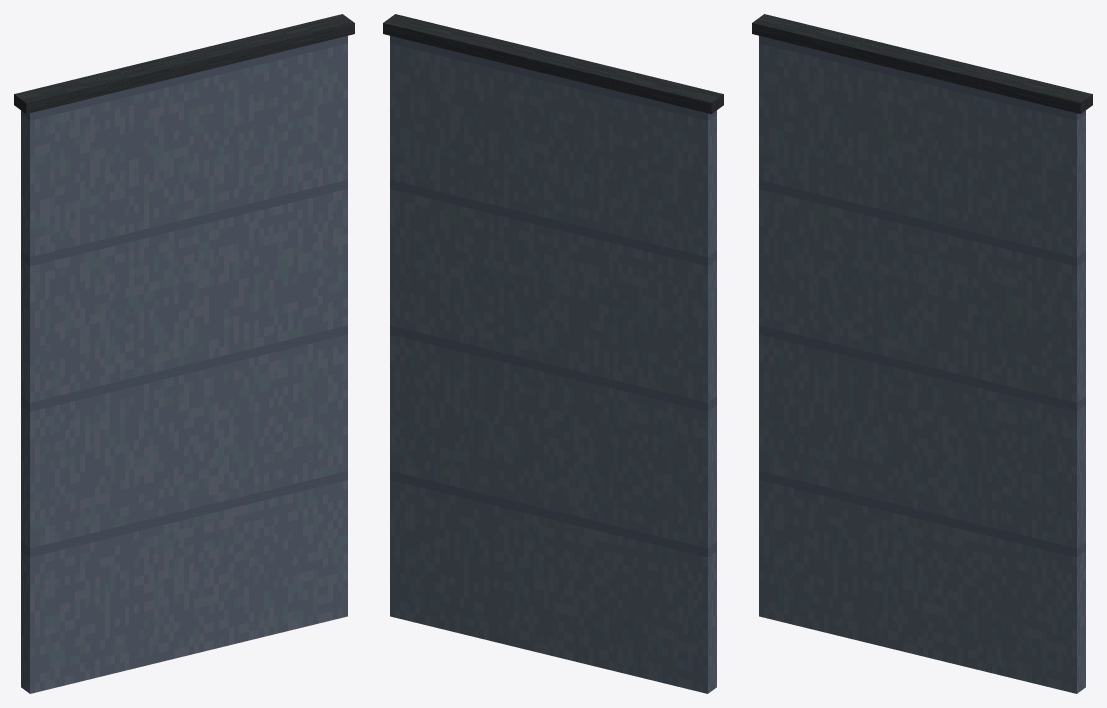
File: Display_WallPanel_011_Normal.fbx
3 views of the same model, side by side, from view 1: azimuth 30°, elevation 25°; view 2: azimuth 150°, elevation 25°; view 3: azimuth 330°, elevation 25° (orthographic).
Visible parts, largest first — view 1: Display_WallPanel_011.001; view 2: Display_WallPanel_011.001; view 3: Display_WallPanel_011.001.
Part boxes in pixels (x1,y1,x2,y2): Display_WallPanel_011.001: [14, 14, 354, 693]; Display_WallPanel_011.001: [383, 14, 723, 693]; Display_WallPanel_011.001: [752, 14, 1092, 693].
Size of the model in its own units: 124 by 214 by 8.
